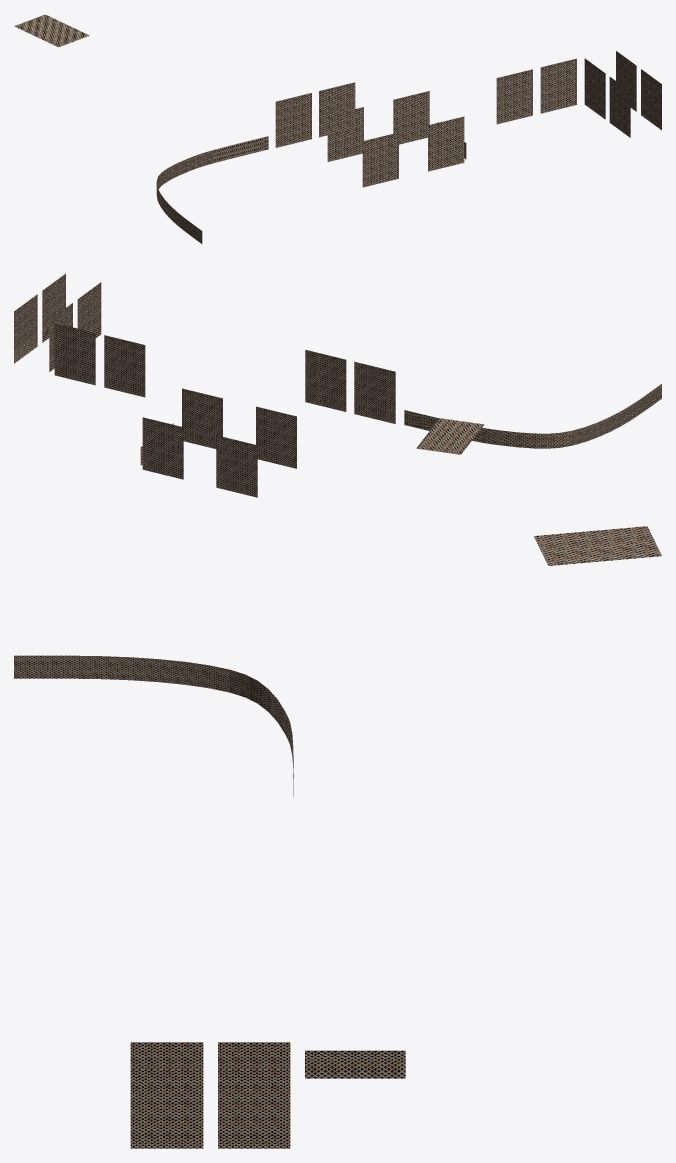
The model's file is Bullet Station 55.fbx.
3 renders of one model, top to bottom at view 1: azimuth 30°, elevation 25°; view 2: azimuth 150°, elevation 25°; view 3: azimuth 270°, elevation 25°, orthographic. The views are drawn at different scales.
Visible parts, largest first — view 1: STG08_PNW_02; view 2: STG08_PNW_02; view 3: STG08_PNW_02.
Boxes of the visible parts, x1,y1,x2,y2 form: STG08_PNW_02: (14, 14, 661, 243); STG08_PNW_02: (14, 273, 661, 497); STG08_PNW_02: (14, 526, 661, 1148).
Size of the model in its own units: 137258 by 38700 by 89324.
